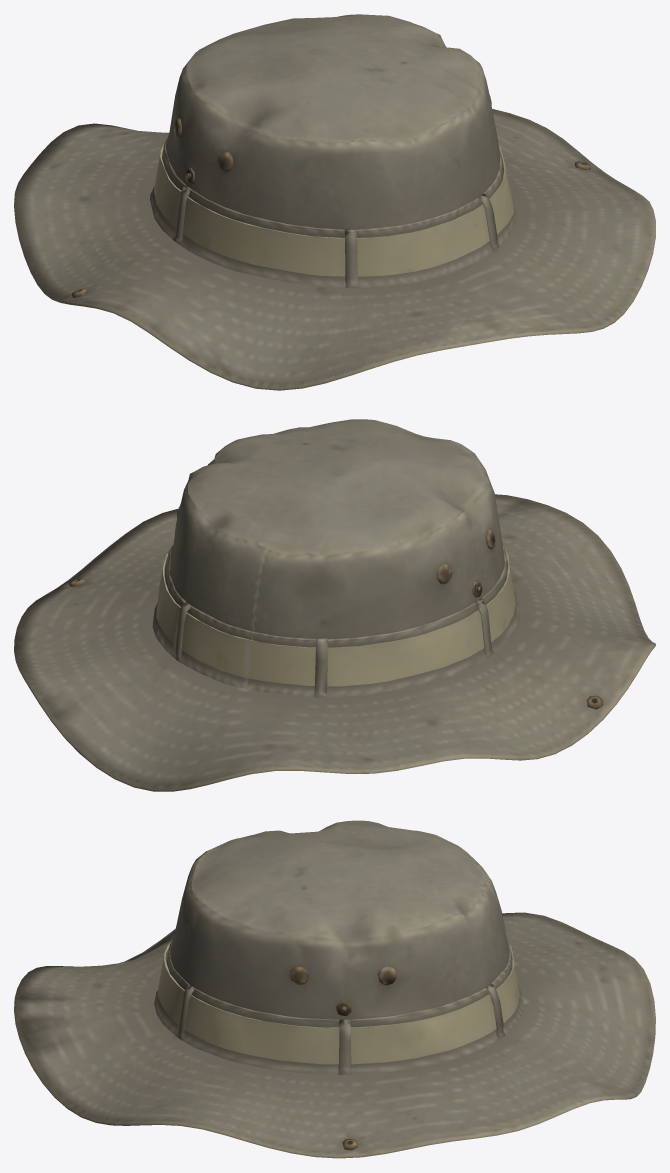
File: fishermans_hat.36718d5496.glb
3 views of the same model, one above another, from view 1: azimuth 30°, elevation 25°; view 2: azimuth 150°, elevation 25°; view 3: azimuth 270°, elevation 25° (orthographic). The views are drawn at different scales.
Visible parts, largest first — view 1: fishermans_hat; view 2: fishermans_hat; view 3: fishermans_hat.
Part boxes in pixels (<box>): fishermans_hat: <box>14,14,655,390</box>; fishermans_hat: <box>14,419,655,791</box>; fishermans_hat: <box>14,820,655,1158</box>.
Bounding box in the file's own units: 0.3236 × 0.124 × 0.35.
1 material, 1 textured.
